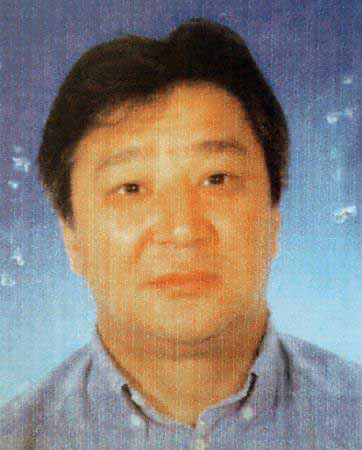Face: (63, 146, 280, 330)
